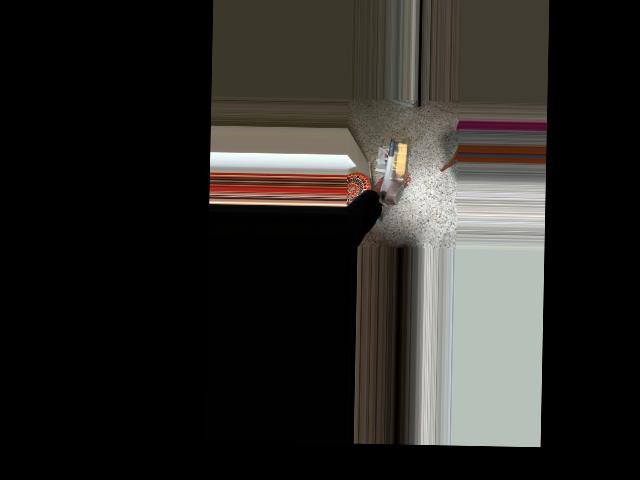cheese: (379, 140, 409, 204)
